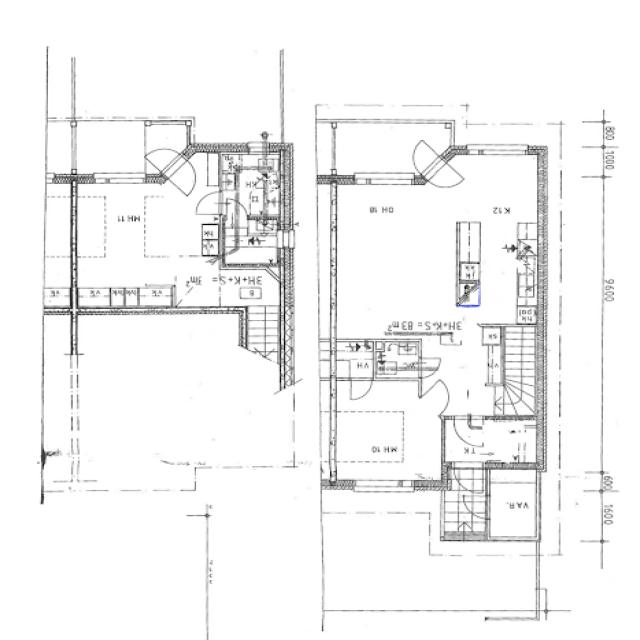door: (140, 136, 188, 179), (162, 153, 210, 195), (402, 137, 448, 180), (420, 156, 467, 198), (420, 378, 462, 416), (455, 414, 484, 445), (454, 462, 482, 494), (462, 496, 492, 519), (194, 191, 222, 214), (419, 357, 443, 377), (227, 196, 247, 218), (352, 378, 372, 399)
